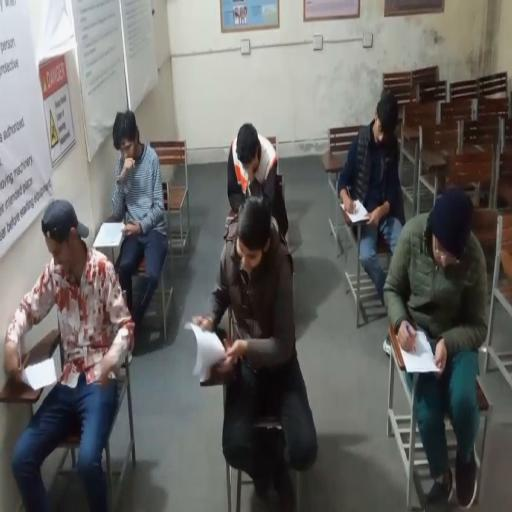paper: (184, 322, 226, 381), (399, 328, 442, 373), (22, 356, 58, 391), (94, 221, 125, 246), (342, 198, 371, 223)
